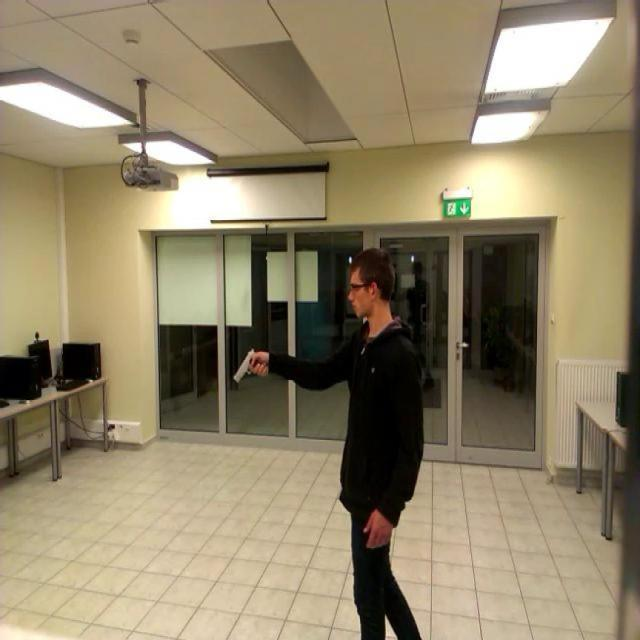pistol: (232, 346, 266, 382)
